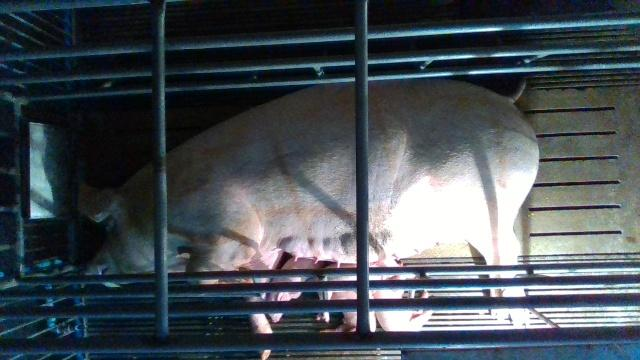piglet: (264, 256, 325, 324), (372, 275, 436, 332), (318, 272, 375, 333)
sow-sleep-lactate: (77, 76, 540, 360)
